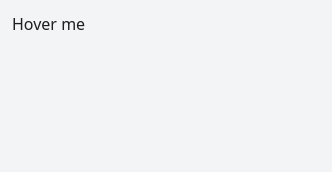
Scenario: HoverCard Components › HoverCard Interactions › should hide content on pointer leave
This screenshot has width=332, height=172.
Hover over the link "Hover me" at (49, 24), box left=12, top=13, right=85, bottom=35
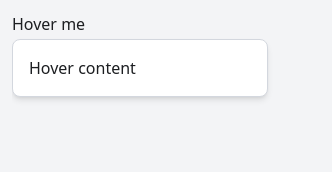
Check: the text "Hover content" is shown, box left=12, top=39, right=268, bottom=97
Move the pointer off the link "Hover me", box left=12, top=13, right=85, bottom=35
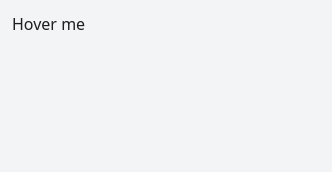
Check: the text "Hover content" is gone
